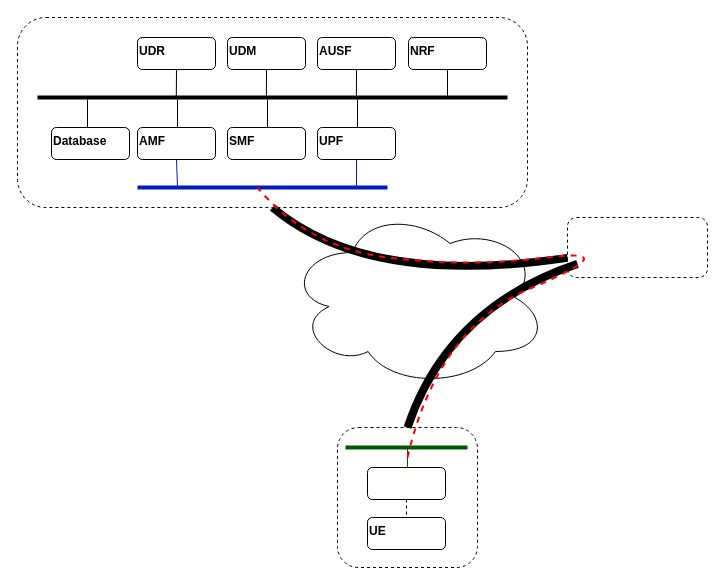
The diagram is 725 pixels wide and 585 high, and some of its shapes have lost their labels. The shapes that lost their labels are listed below. From the top down, each one's box as (x1, y1, x2, y2) in pixels, then its label:
(566, 216, 708, 278): VPN Service
(286, 206, 548, 388): Internet
(366, 466, 446, 500): gNB
